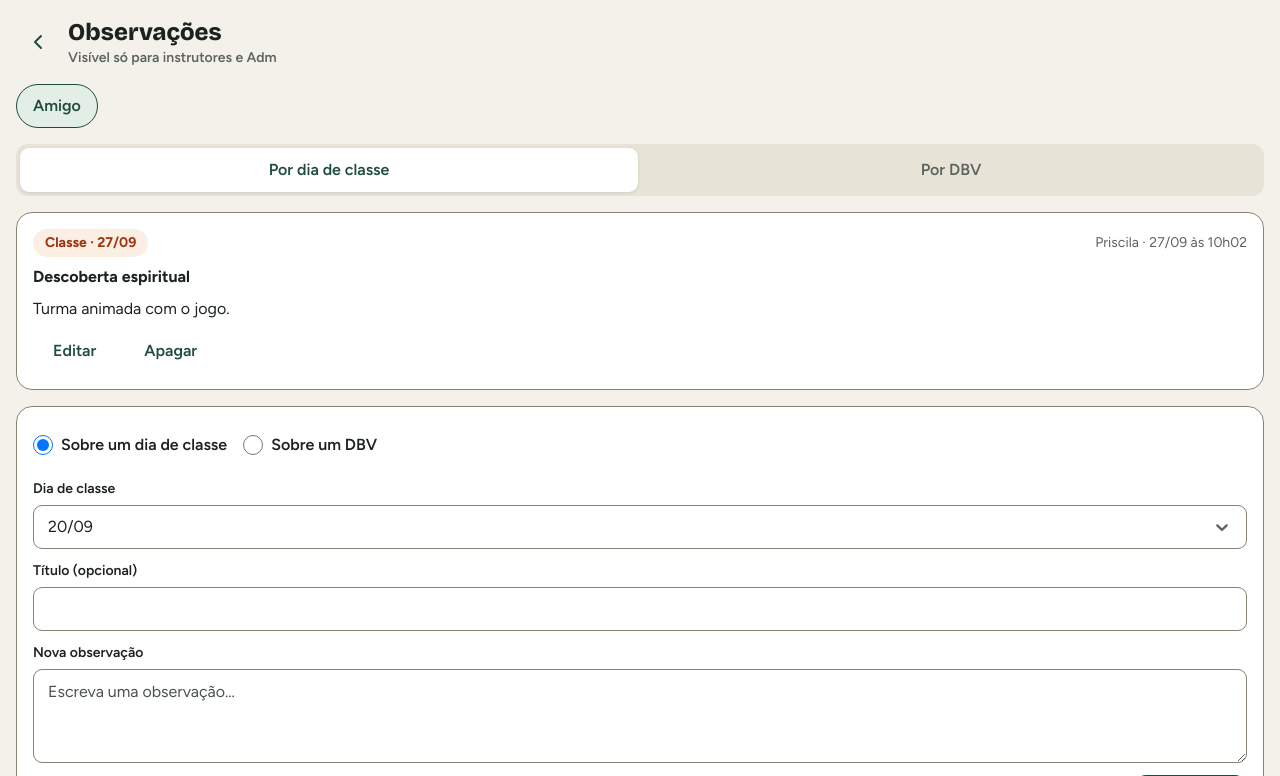
Test: Observações › apagar que falha mantém o diálogo aberto com a mensagem; de novo com sucesso, fecha
Click the button "Apagar": point(171, 351) [124,329,217,373]
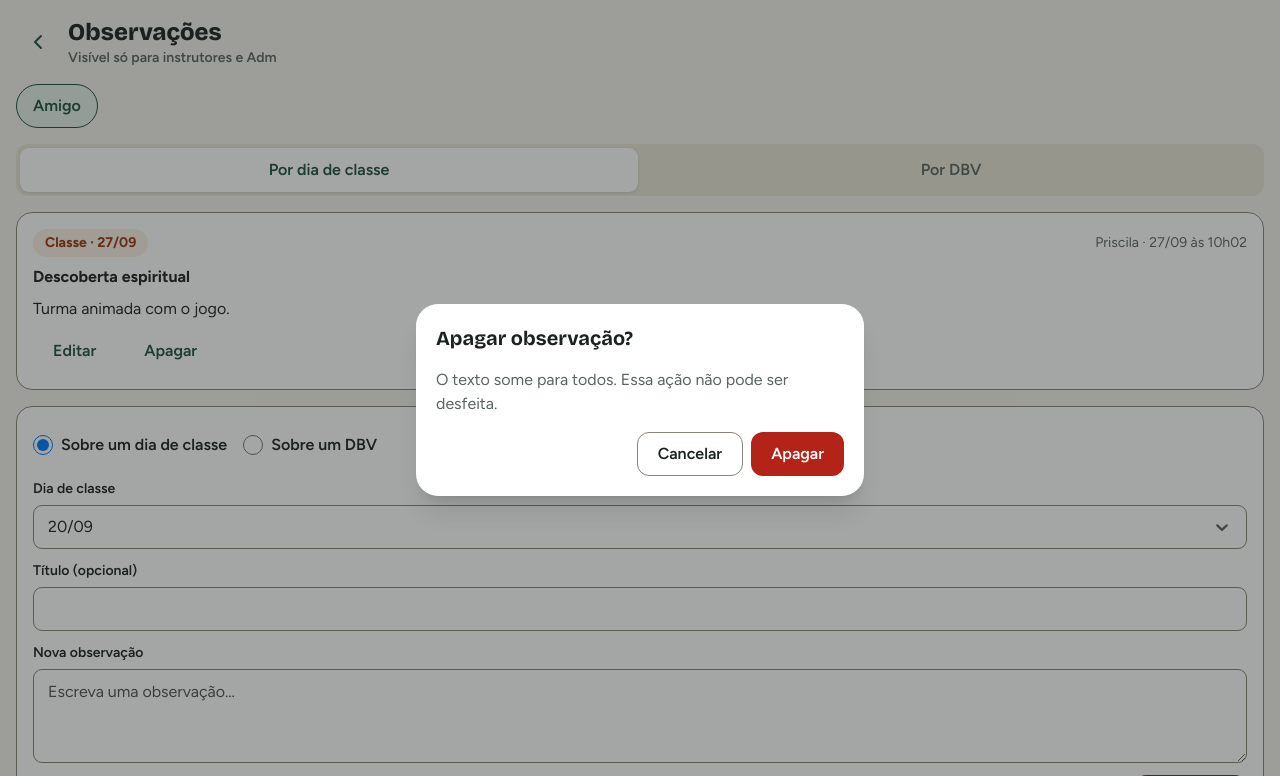
Click the button "Apagar": point(798, 454) [751,432,844,476]
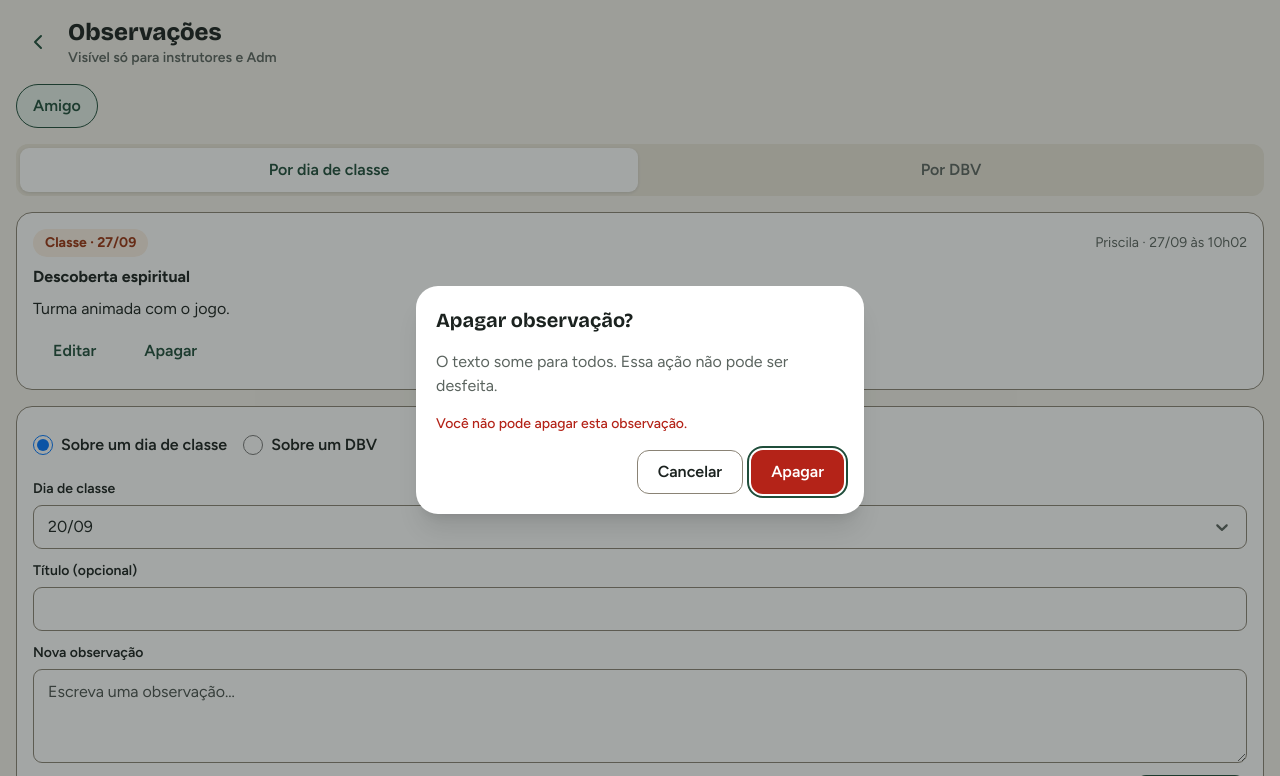
Expected: the dialog "Apagar observação?" is shown, [416,286,864,514]
Expected: the message reads "Você não pode apagar esta observação.", [436,415,687,432]
Click the button "Apagar": point(798, 472) [751,450,844,494]
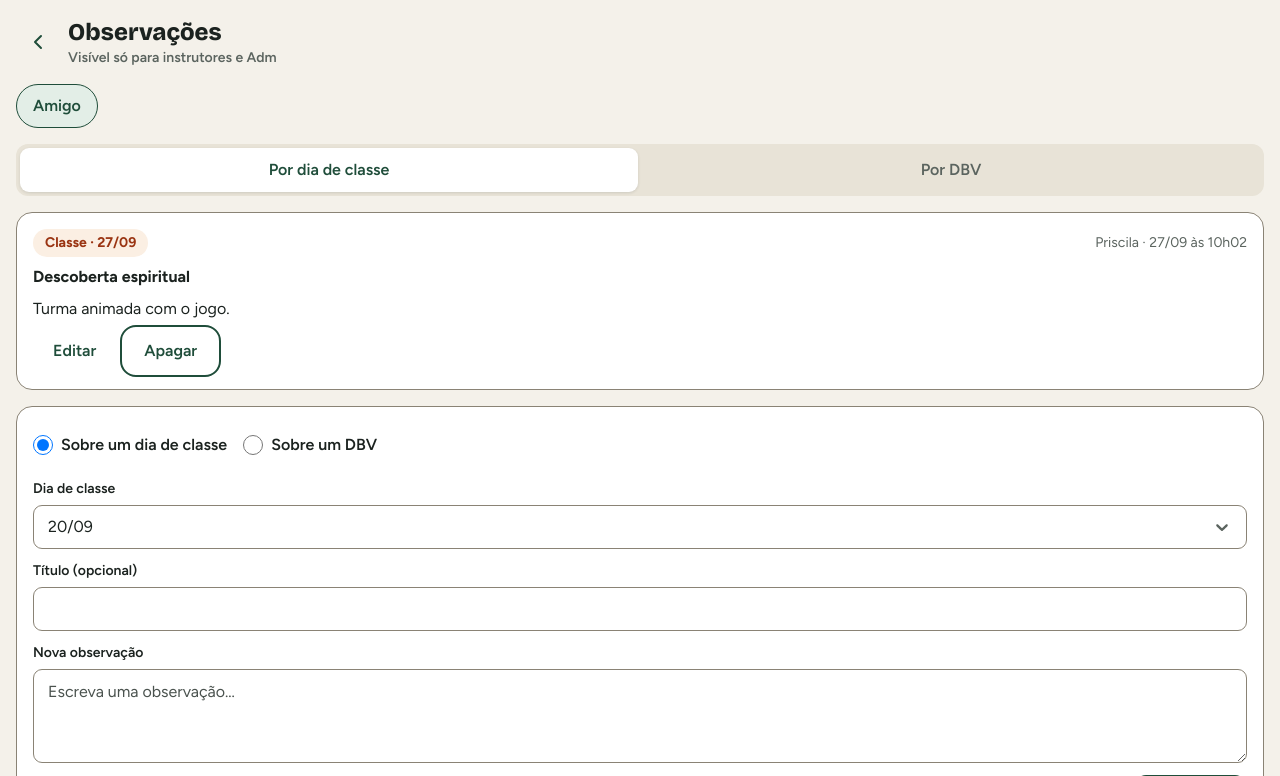
Expected: the heading "Apagar observação?" is gone
